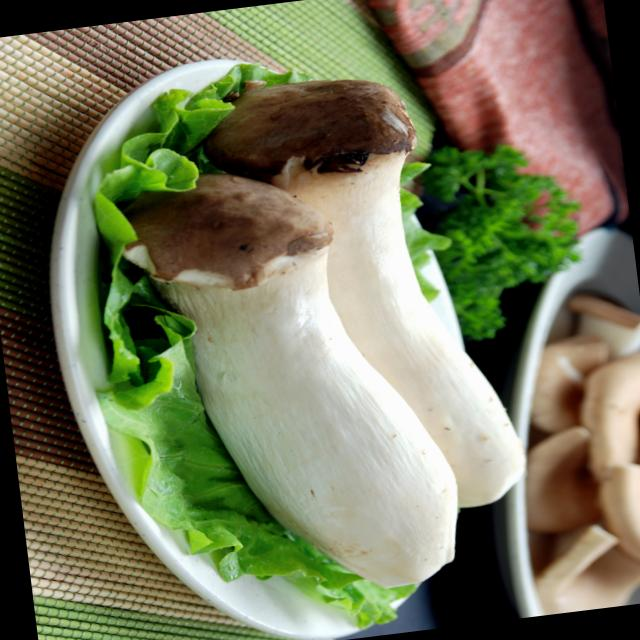Pleurotus eryngii: (104, 63, 542, 618)
